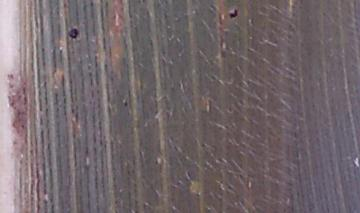tarspot: (64, 26, 82, 42), (226, 7, 241, 20), (123, 99, 129, 108)
